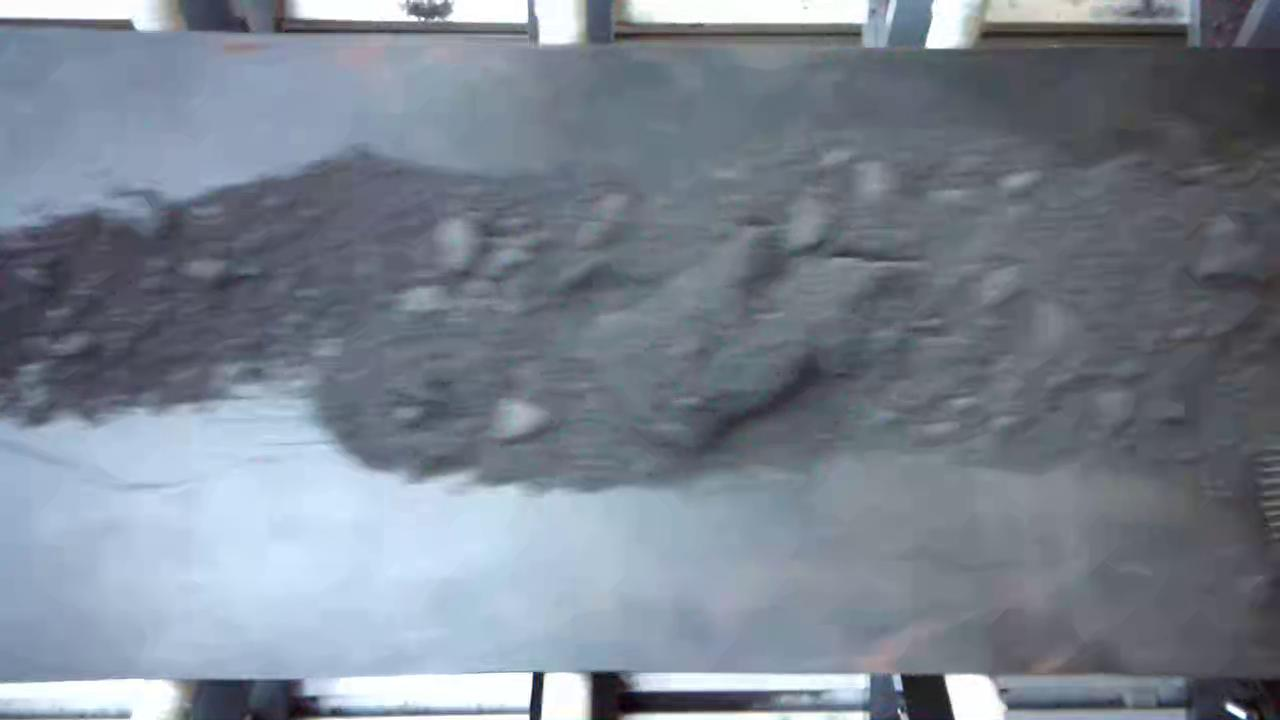conveyor: (0, 50, 1280, 667)
